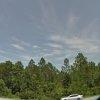Tree: (24, 57, 67, 100)
